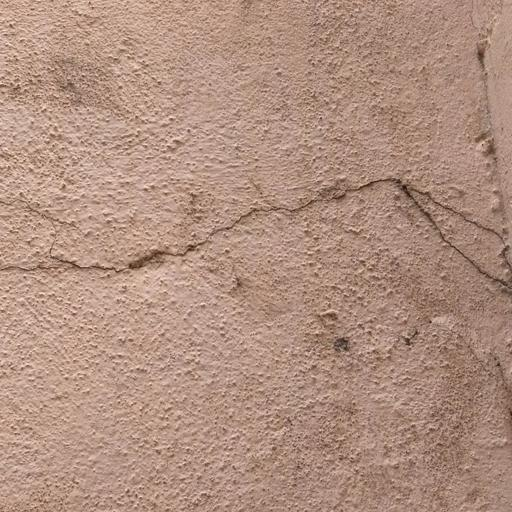minor_crack: (3, 172, 512, 300)
